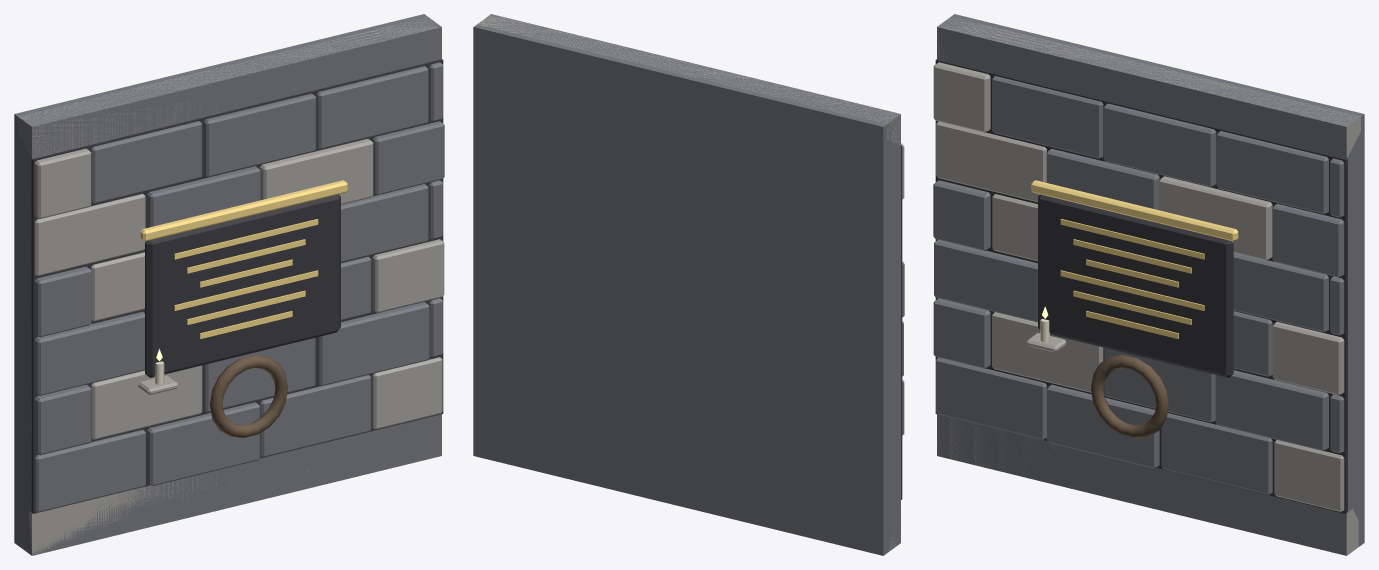
Rendered from wall_cr_plaque.glb.
3 renders of one model, left to right at view 1: azimuth 30°, elevation 25°; view 2: azimuth 150°, elevation 25°; view 3: azimuth 330°, elevation 25°, orthographic.
Visible parts, largest first — view 1: wall_cr_plaque; view 2: wall_cr_plaque; view 3: wall_cr_plaque.
Boxes of the visible parts, x1,y1,x2,y2 form: wall_cr_plaque: (14,14,444,555); wall_cr_plaque: (473,14,904,555); wall_cr_plaque: (933,14,1364,555).
Bounding box in the file's own units: 4 × 4 × 0.552.
